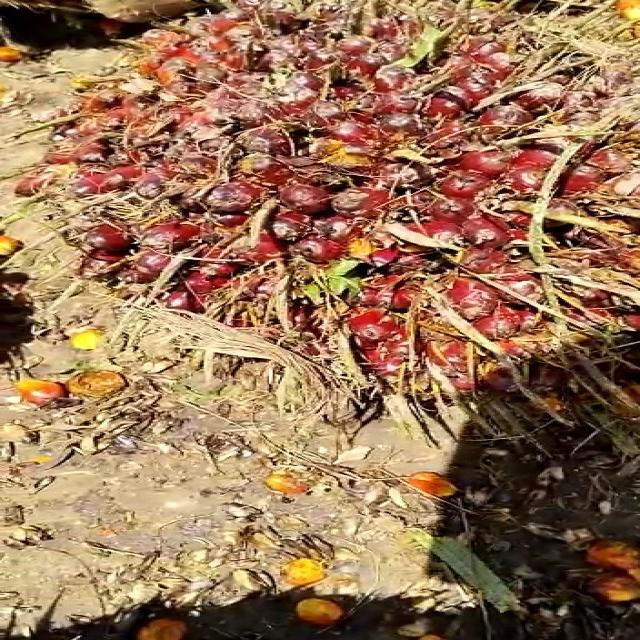palm oil: (37, 0, 640, 411)
